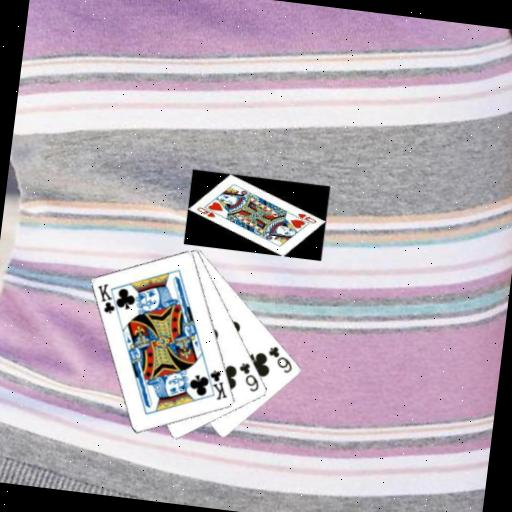6C: (264, 342, 297, 375), (234, 359, 264, 394)
KC: (199, 366, 232, 403), (93, 280, 125, 317)
